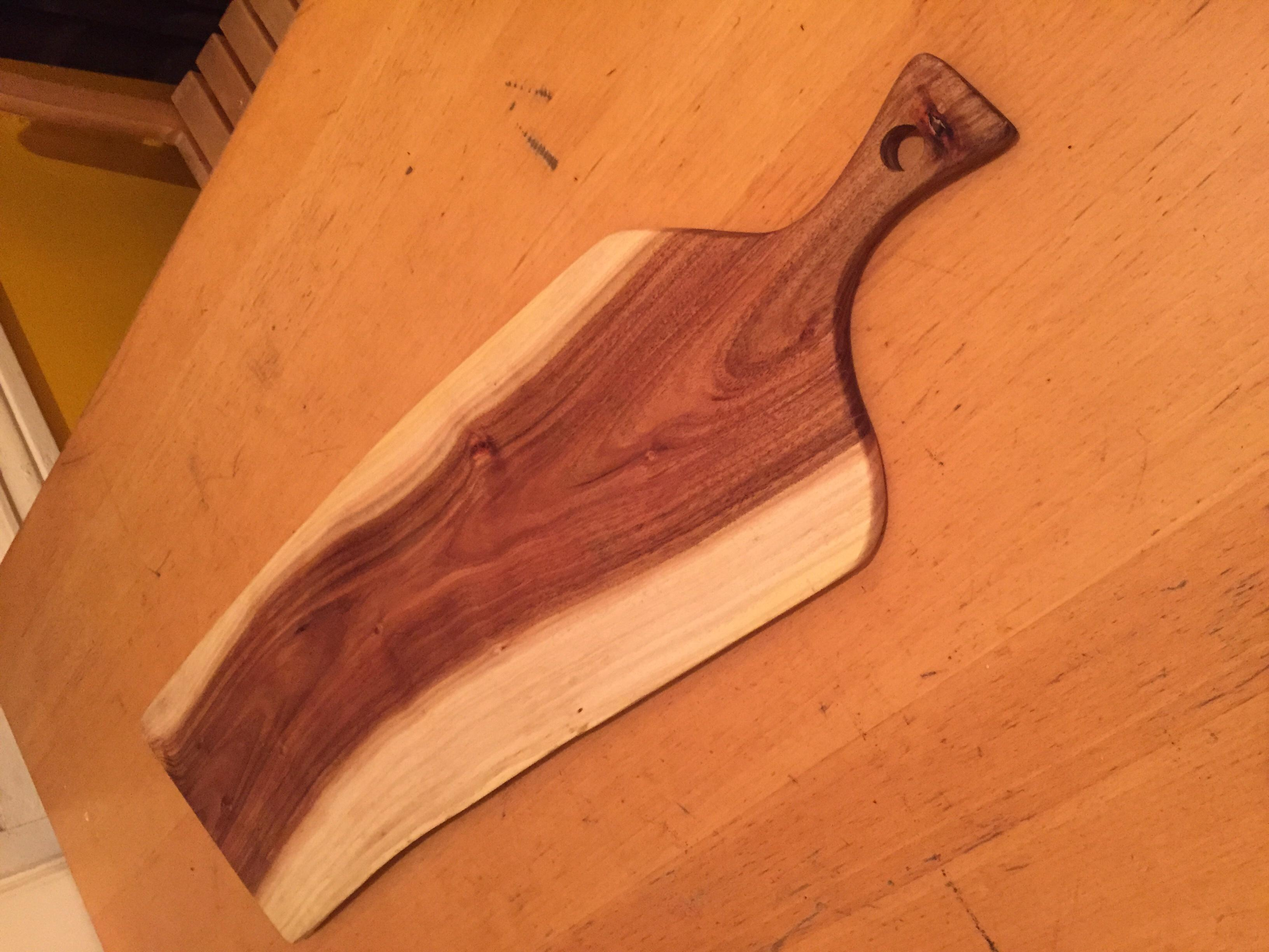gloved_hand: (12, 129, 939, 952)
